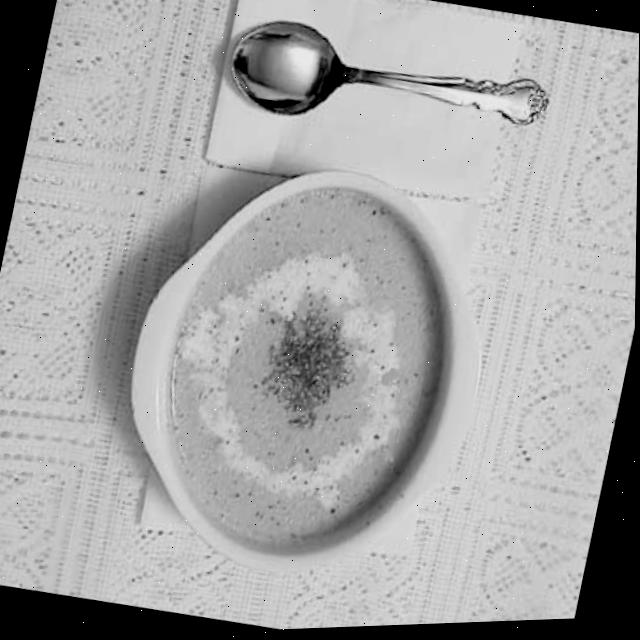汤锅炖物: (92, 131, 522, 607)
